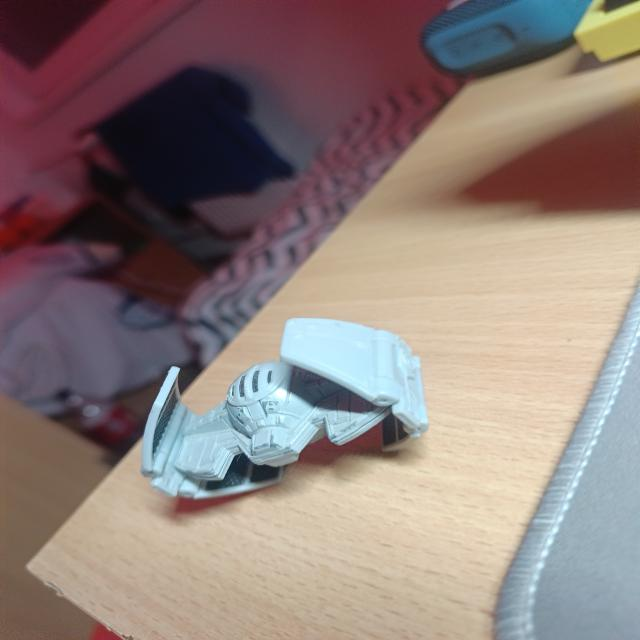tie fighter: (141, 318, 428, 499)
